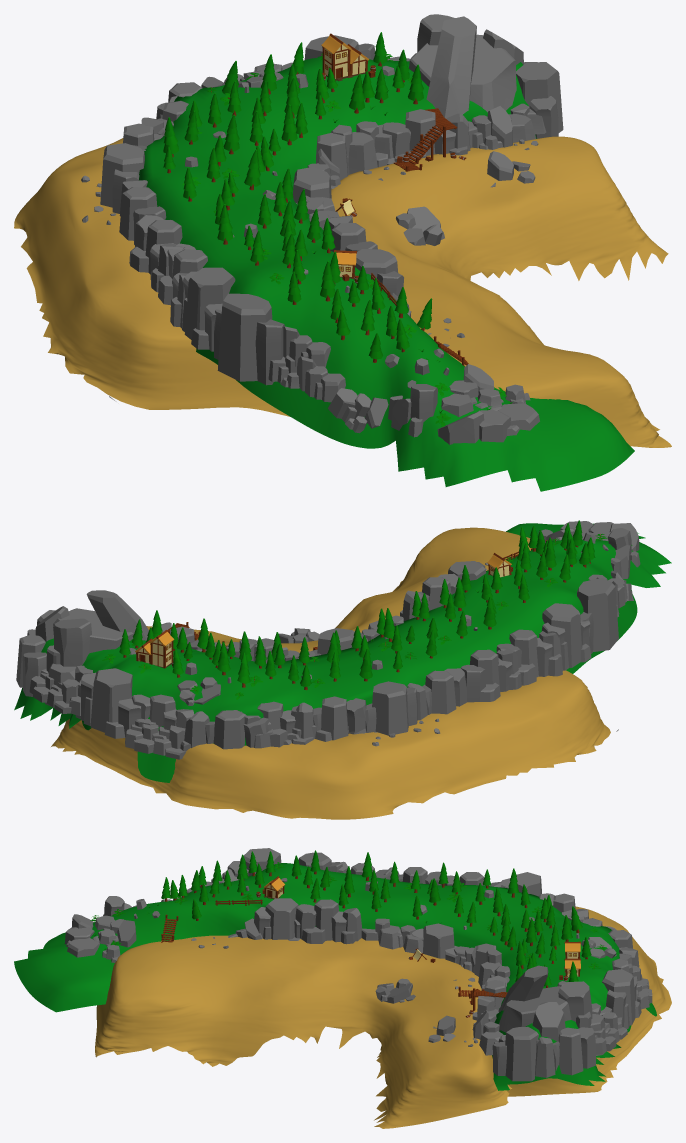
File: island_threeset1.fbx
3 renders of one model, top to bottom at view 1: azimuth 30°, elevation 25°; view 2: azimuth 150°, elevation 25°; view 3: azimuth 270°, elevation 25°, orthographic. The views are drawn at different scales.
Visible parts, largest first — view 1: pSphere6, pSphere5, pSphere7, rock_large_17, rock_cliff47, rock_cliff37, rock_cliff57, rock_cliff18, rock_cliff33, rock_cliff31, rock_cliff39, rock_cliff38 (+20 smaller); view 2: pSphere7, pSphere6, pSphere5, rock_large_17, rock_cliff42, rock_cliff33, rock_cliff34, rock_cliff39, rock_cliff43, rock_cliff47, rock_cliff38, rock_cliff37 (+15 smaller); view 3: pSphere5, pSphere6, rock_large_17, pSphere7, rock_cliff30, rock_cliff13, rock_cliff31, rock_cliff12, rock_cliff42, rock_cliff14, rock_cliff15, rock_cliff57 (+18 smaller).
Boxes of the visible parts, left/top/right/bottom form: pSphere6: left=139, top=56, right=634, bottom=491; pSphere5: left=331, top=136, right=671, bottom=447; pSphere7: left=14, top=138, right=289, bottom=416; rock_large_17: left=409, top=14, right=523, bottom=118; rock_cliff47: left=214, top=293, right=284, bottom=385; rock_cliff37: left=182, top=267, right=235, bottom=351; rock_cliff57: left=437, top=403, right=539, bottom=444; rock_cliff18: left=382, top=109, right=470, bottom=159; rock_cliff33: left=129, top=215, right=184, bottom=292; rock_cliff31: left=516, top=62, right=563, bottom=138; rock_cliff39: left=100, top=143, right=144, bottom=213; rock_cliff38: left=158, top=243, right=207, bottom=328; pSphere7: left=51, top=670, right=618, bottom=819; pSphere6: left=14, top=523, right=671, bottom=782; pSphere5: left=146, top=527, right=531, bottom=652; rock_large_17: left=35, top=590, right=148, bottom=667; rock_cliff42: left=81, top=668, right=141, bottom=738; rock_cliff33: left=461, top=646, right=521, bottom=702; rock_cliff34: left=184, top=710, right=269, bottom=749; rock_cliff39: left=365, top=681, right=417, bottom=735; rock_cliff43: left=294, top=696, right=366, bottom=740; rock_cliff47: left=577, top=578, right=618, bottom=653; rock_cliff38: left=496, top=629, right=562, bottom=685; rock_cliff37: left=541, top=603, right=591, bottom=670; pSphere5: left=95, top=935, right=511, bottom=1128; pSphere6: left=14, top=863, right=656, bottom=1090; rock_large_17: left=498, top=965, right=592, bottom=1041; pSphere7: left=506, top=906, right=671, bottom=1096; rock_cliff30: left=535, top=1027, right=595, bottom=1077; rock_cliff13: left=295, top=899, right=362, bottom=944; rock_cliff31: left=492, top=1026, right=539, bottom=1081; rock_cliff12: left=254, top=898, right=300, bottom=940; rock_cliff42: left=602, top=969, right=641, bottom=1028; rock_cliff14: left=361, top=918, right=423, bottom=953; rock_cliff15: left=412, top=923, right=458, bottom=962; rock_cliff57: left=64, top=914, right=99, bottom=957.
Size of the model in its own units: 26079 by 8091 by 35079.
1 material, 1 textured.
